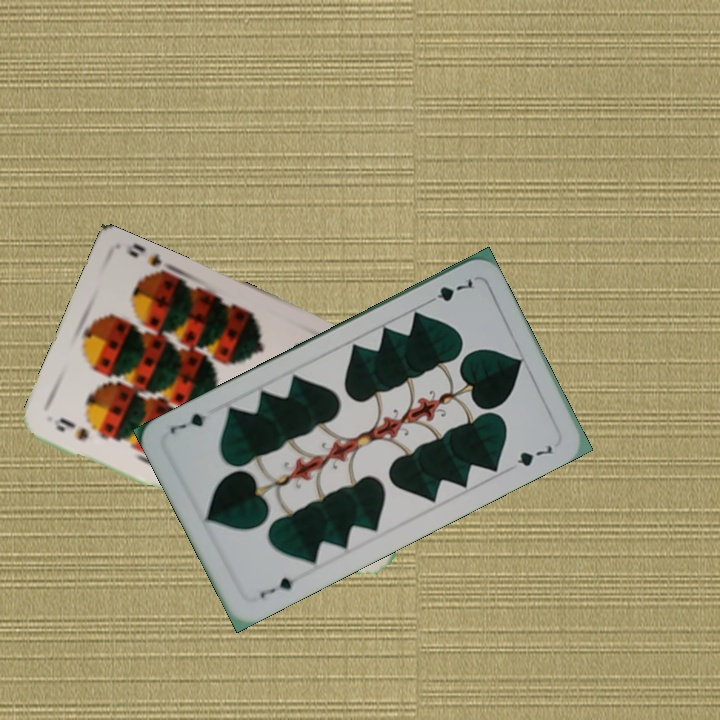G7: (421, 274, 477, 307), (256, 573, 297, 601)
S9: (50, 413, 91, 443)
